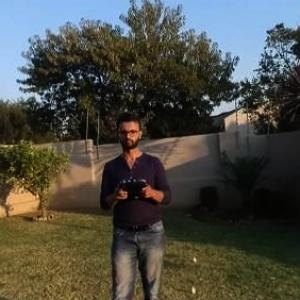follow: (91, 98, 172, 299)
